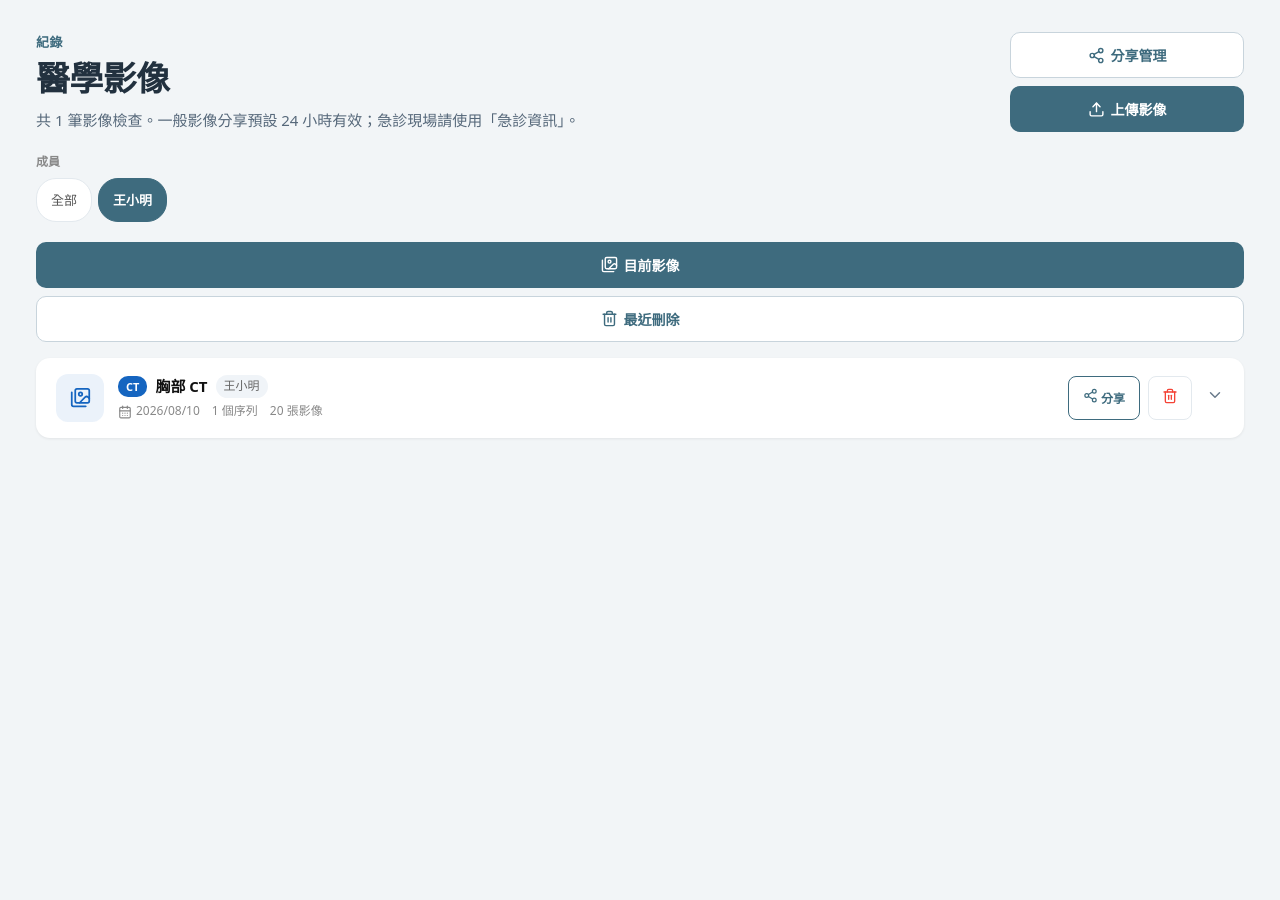
Test case: DICOM recently deleted UX › explains share revocation, soft deletes, and restores the study
Expected: the text "胸部 CT" is shown, [155,375,208,398]
Click the button named "移到最近刪除：胸部 CT" at {"x": 1170, "y": 398}, box [1148,376,1192,420]
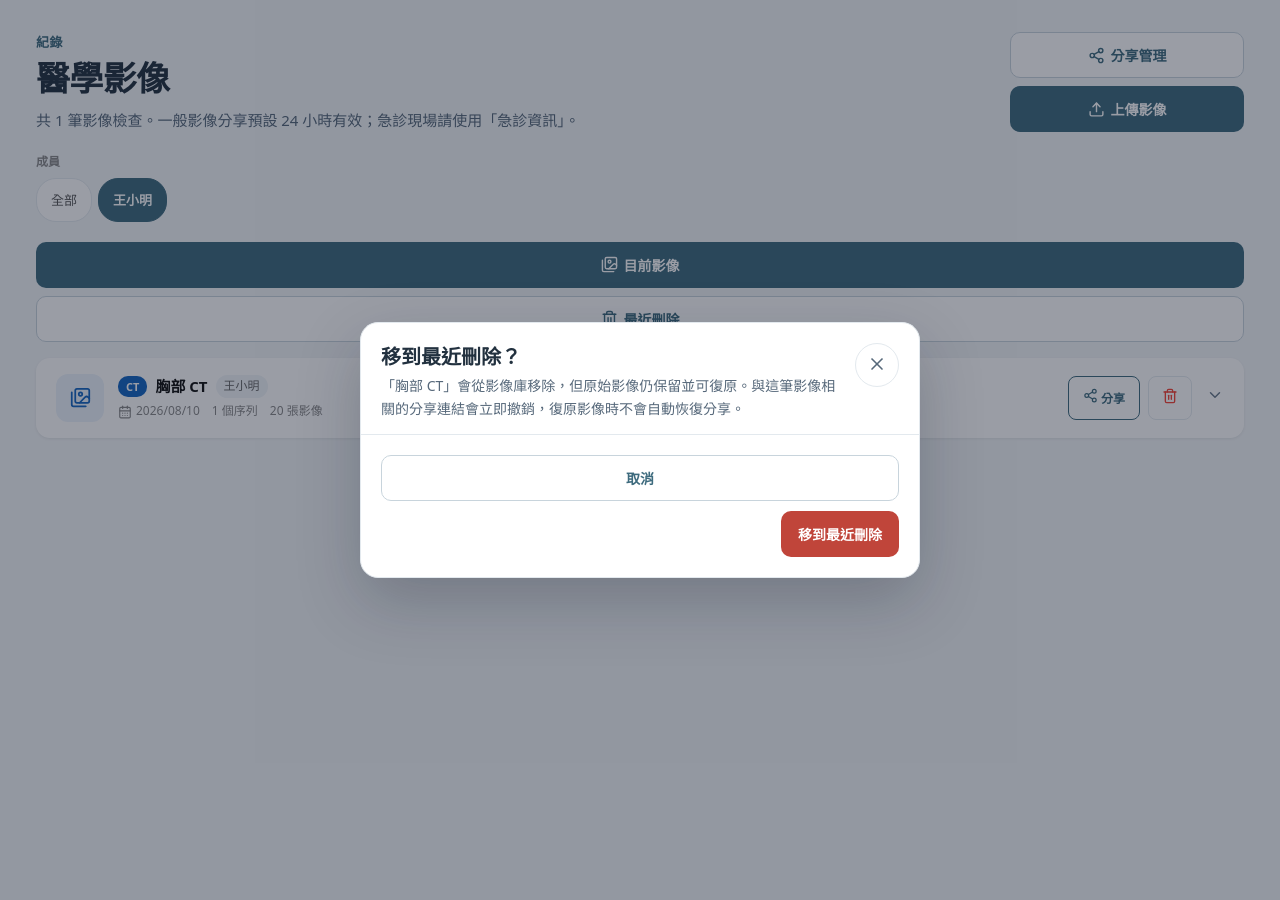
Expected: the dialog "移到最近刪除？" shows "可復原", [360,322,920,578]
Expected: the dialog "移到最近刪除？" shows "分享連結會立即撤銷", [381,376,835,418]
Click the button "移到最近刪除" at {"x": 840, "y": 534}, box [781,511,899,557]
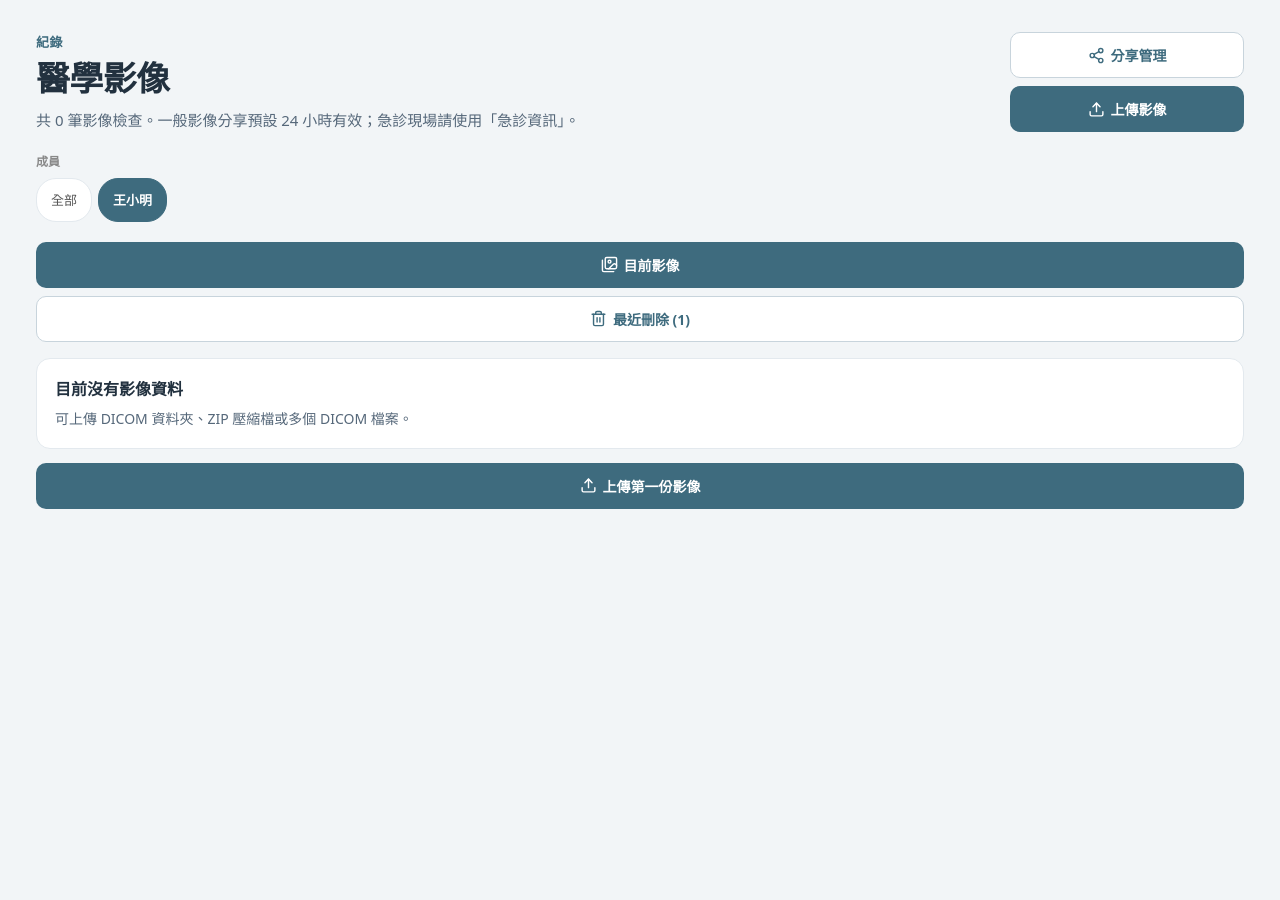
Expected: the text "胸部 CT" is gone
Click the tab "最近刪除 (1)" at {"x": 640, "y": 319}, box [36,296,1244,342]
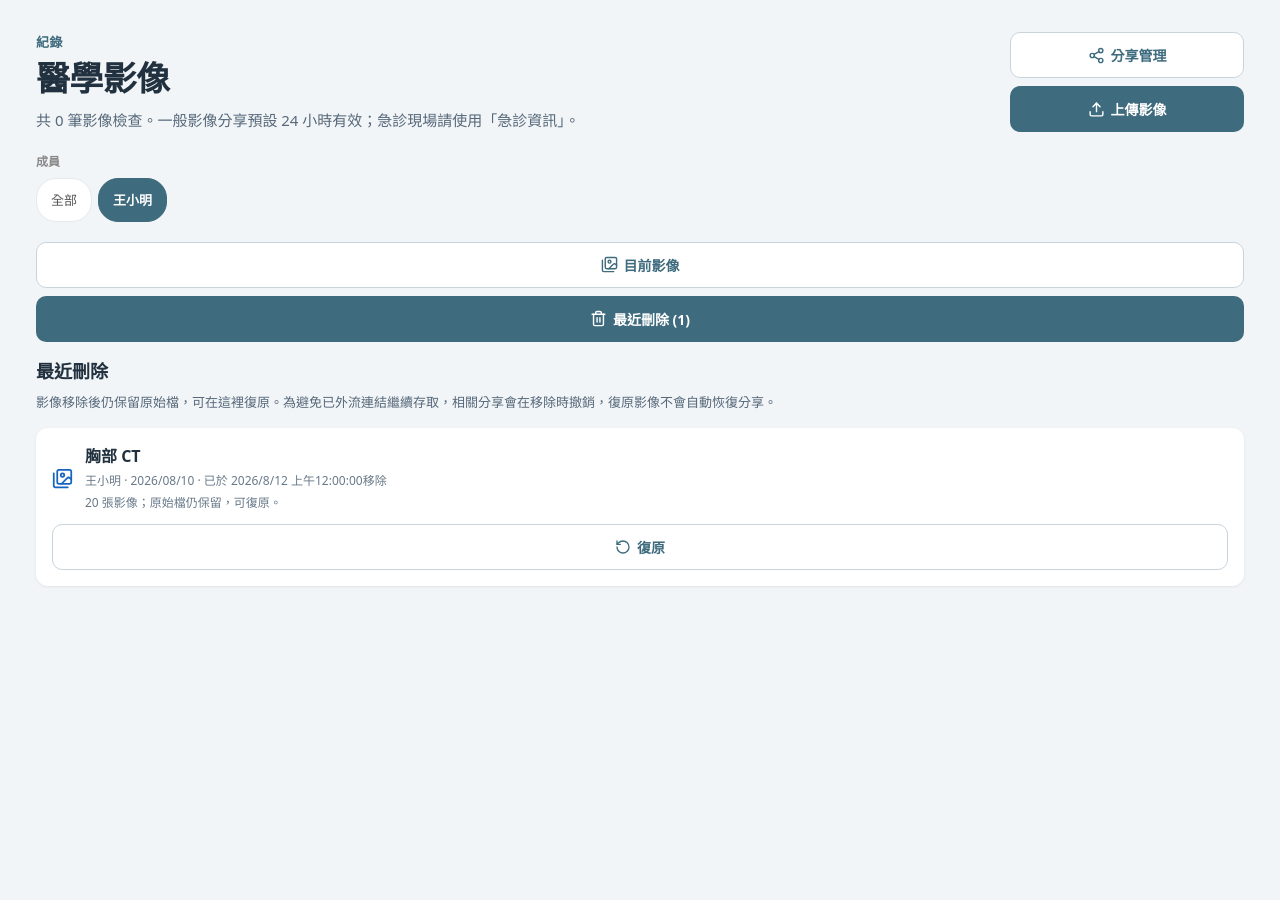
Expected: the text "胸部 CT" is shown, [85,445,141,467]
Click the button "復原" at {"x": 640, "y": 547}, box [52,524,1228,570]
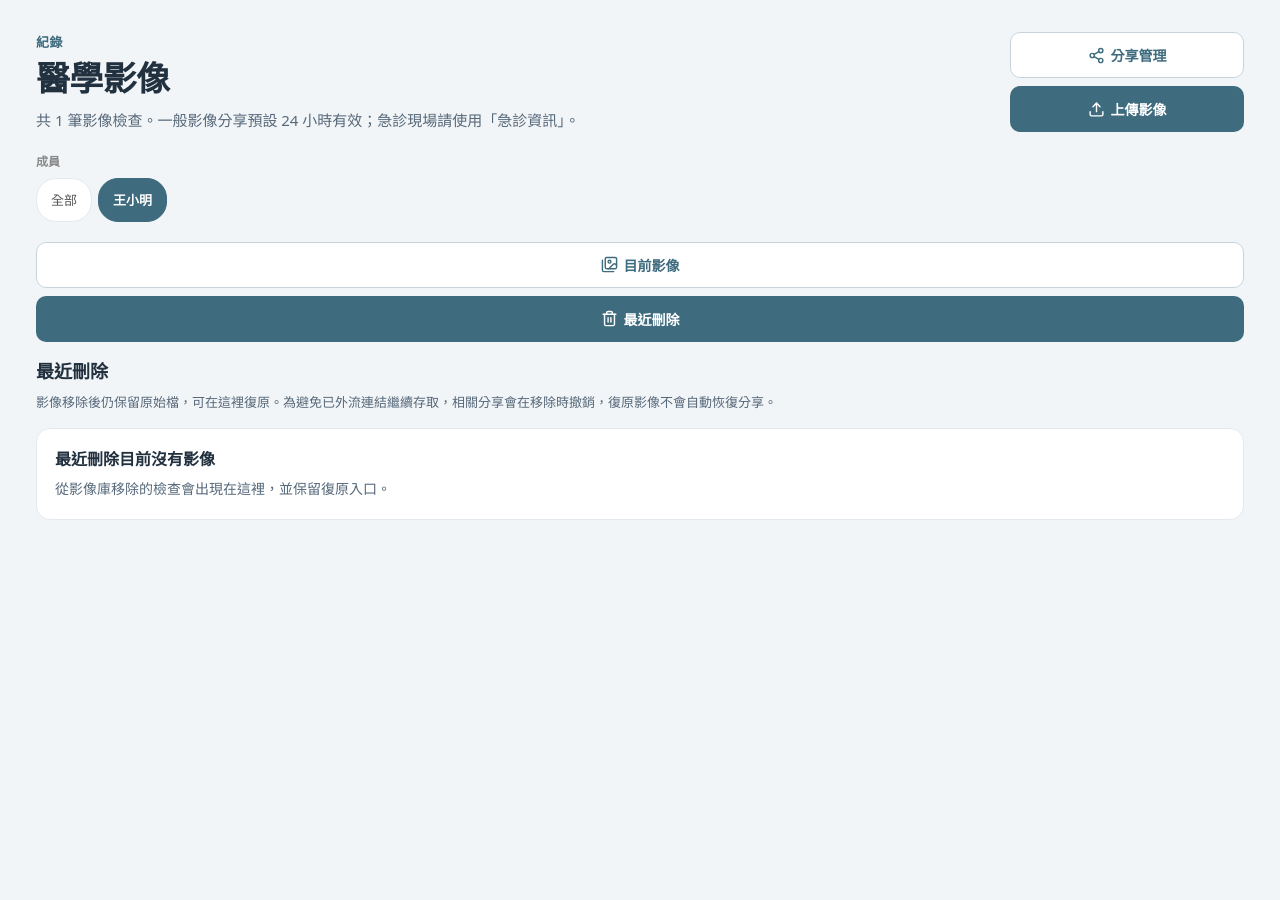
Expected: the text "胸部 CT" is gone
